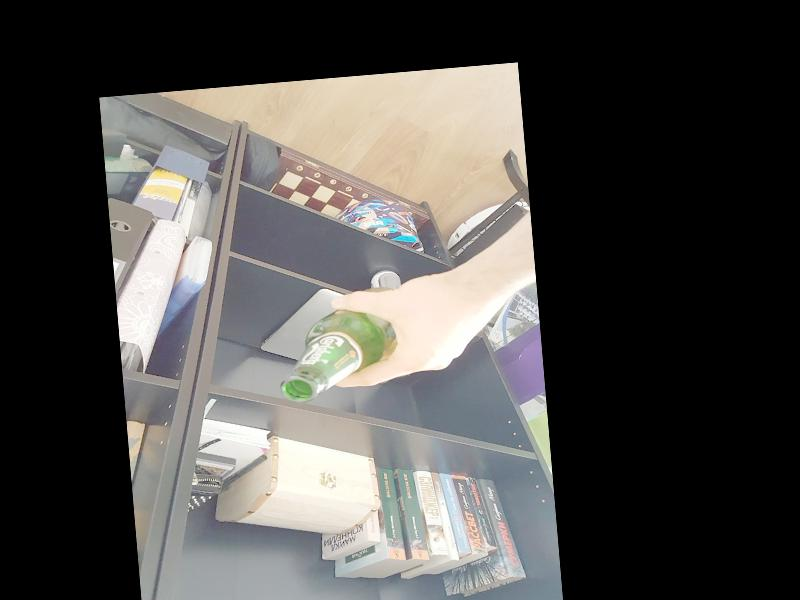Beer: (272, 285, 408, 403)
